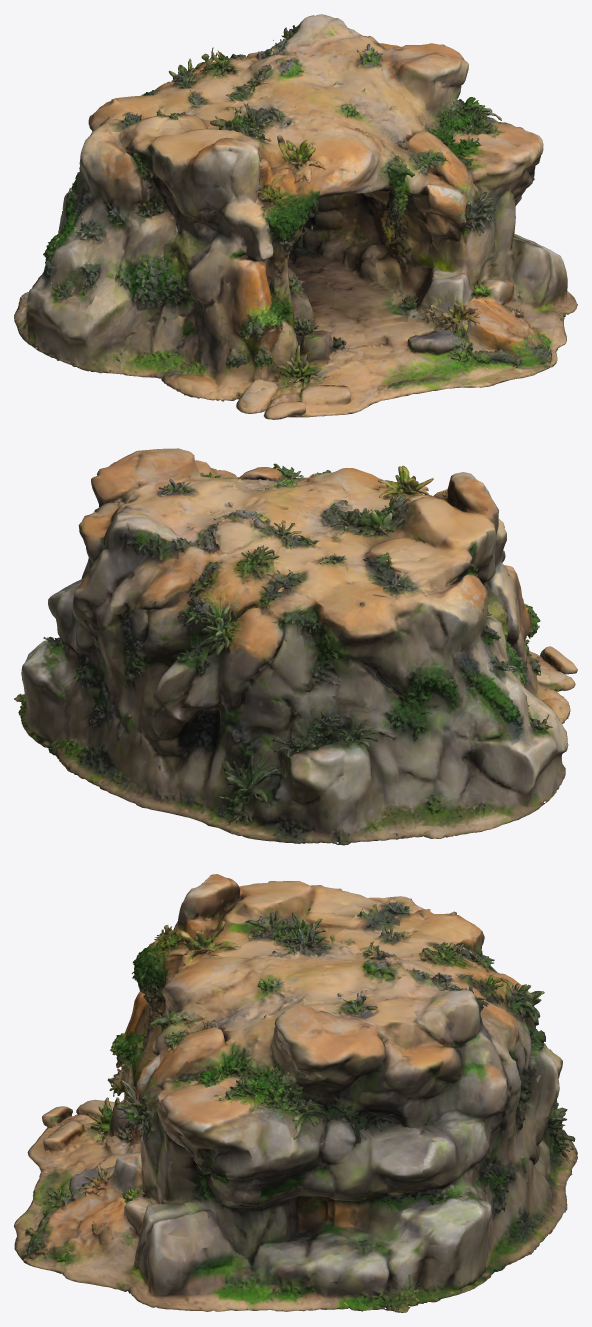
The model's file is Cave_Entrance.glb.
The picture shows the model from 3 angles, top to bottom: view 1: azimuth 30°, elevation 25°; view 2: azimuth 150°, elevation 25°; view 3: azimuth 270°, elevation 25°; orthographic projection. The views are drawn at different scales.
Visible parts, largest first — view 1: Cave_Entrance; view 2: Cave_Entrance; view 3: Cave_Entrance.
Boxes of the visible parts, x1,y1,x2,y2 form: Cave_Entrance: (14, 14, 577, 419); Cave_Entrance: (14, 448, 577, 845); Cave_Entrance: (14, 874, 577, 1312).
Size of the model in its own units: 1.9 by 0.866 by 1.77.
Materials: 1 (1 with a texture image).
